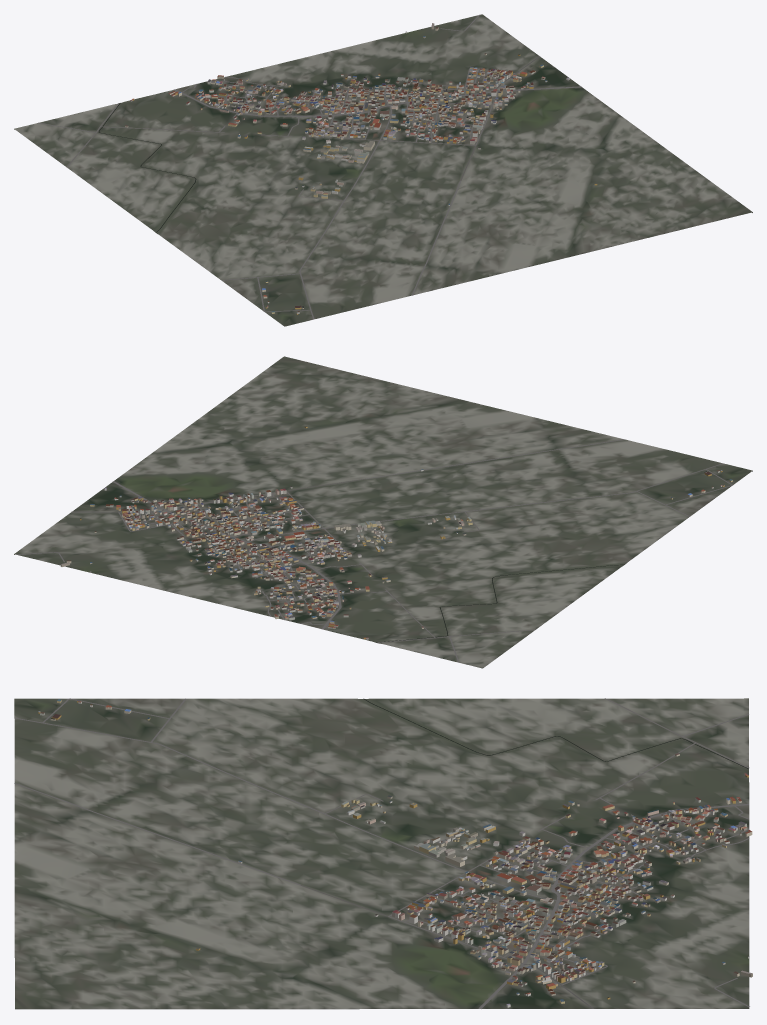
The picture shows the model from 3 angles, top to bottom: view 1: azimuth 30°, elevation 25°; view 2: azimuth 150°, elevation 25°; view 3: azimuth 270°, elevation 25°; orthographic projection. The views are drawn at different scales.
Parts seen in each view (by area): view 1: ground, buildings, roads; view 2: ground, buildings, roads; view 3: ground, buildings, roads.
Part boxes in pixels (<box>): ground: <box>14,14,752,326</box>; buildings: <box>125,23,597,314</box>; roads: <box>38,14,581,319</box>; ground: <box>14,356,752,668</box>; buildings: <box>60,426,732,639</box>; roads: <box>16,439,732,662</box>; ground: <box>14,698,749,1009</box>; buildings: <box>38,699,752,1007</box>; roads: <box>14,698,749,1008</box>.
Size of the model in its own units: 1405 by 17 by 1410.
